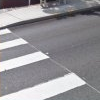crosswalk: (0, 28, 85, 100)
